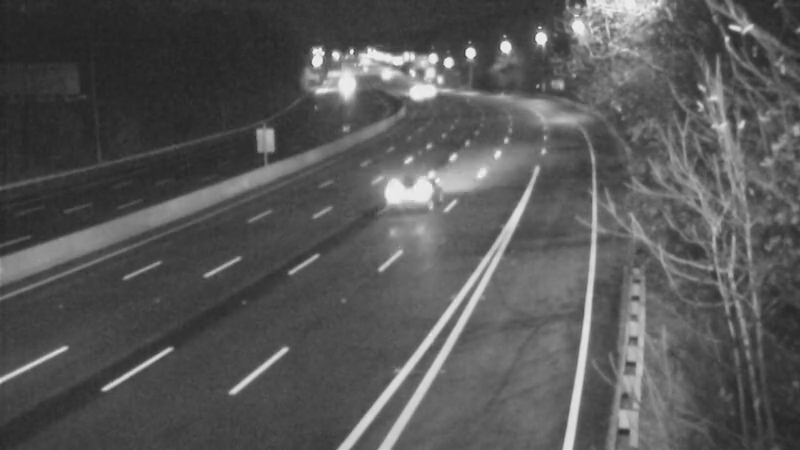vehicle: (370, 154, 450, 234), (408, 65, 458, 115), (383, 67, 433, 117), (325, 60, 375, 110)
